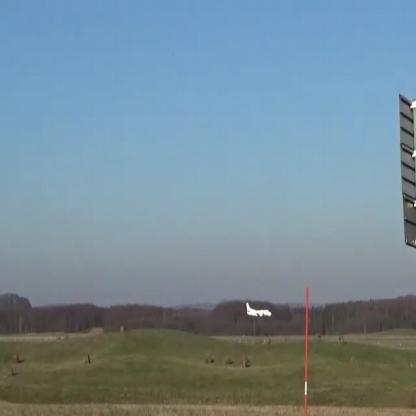aircraft: (242, 298, 273, 325)
